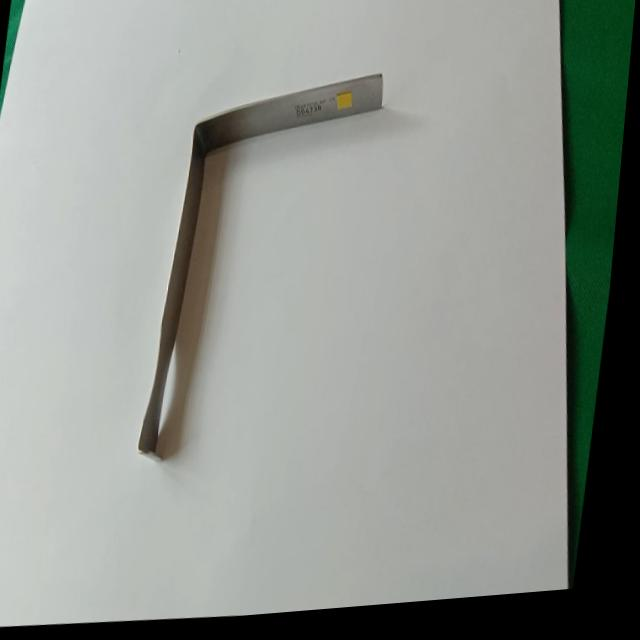AustinRetractor: (131, 65, 396, 496)
